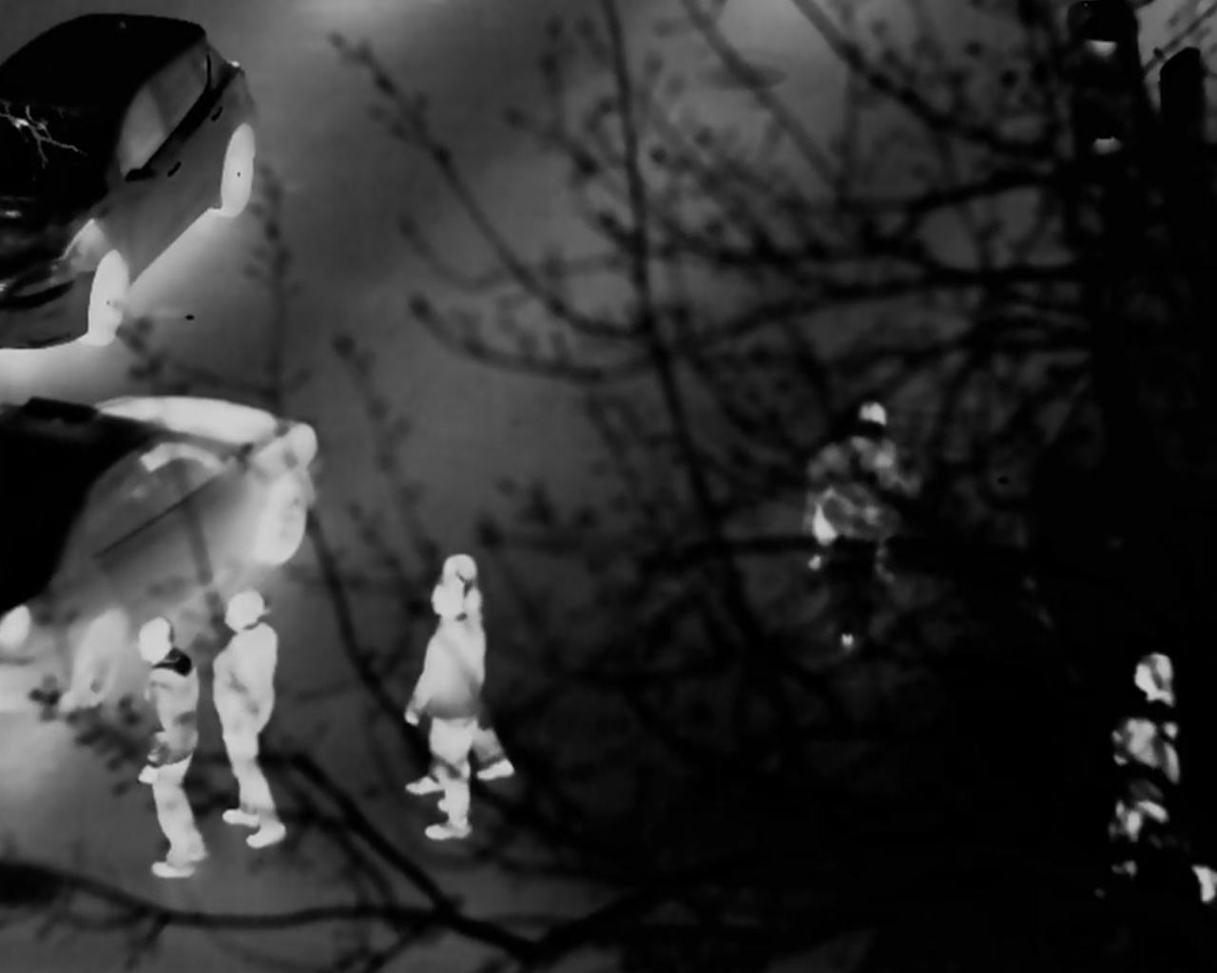person: (397, 545, 520, 782), (189, 589, 285, 842), (405, 573, 485, 845), (131, 614, 208, 883), (1118, 650, 1199, 876), (830, 397, 914, 560)
